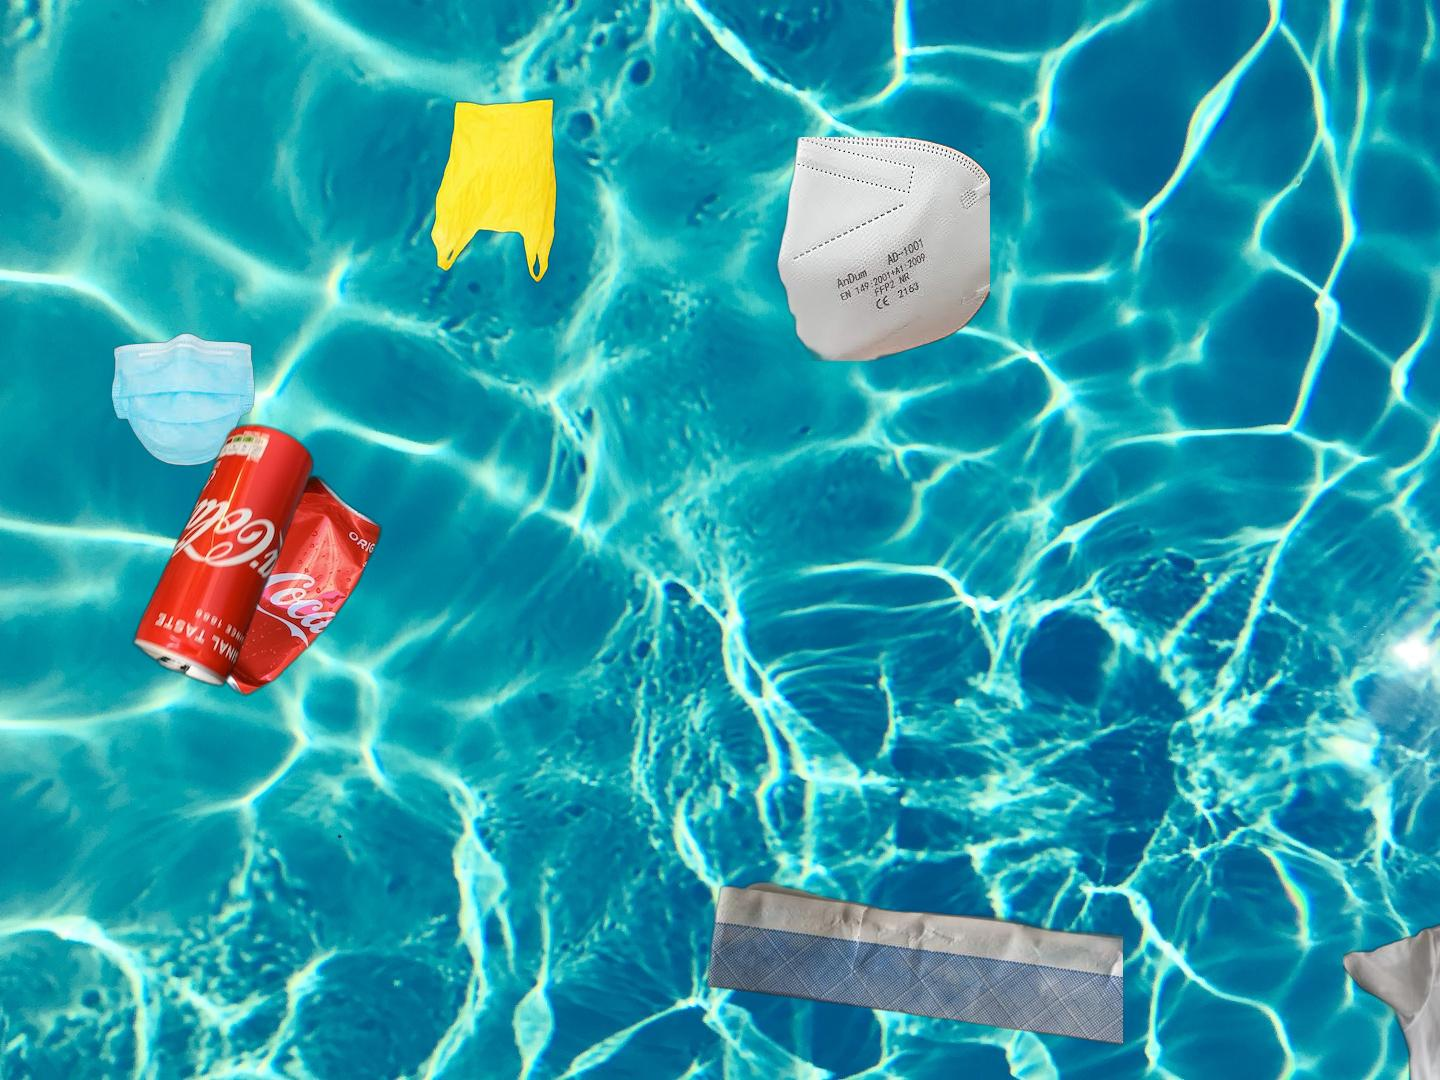clothes: (1342, 900, 1440, 1080)
metal-cans: (127, 417, 317, 692), (175, 470, 386, 701)
paper: (702, 879, 1123, 1048)
plastic-bag: (427, 96, 560, 284)
trash: (771, 137, 990, 361), (109, 331, 259, 469)
